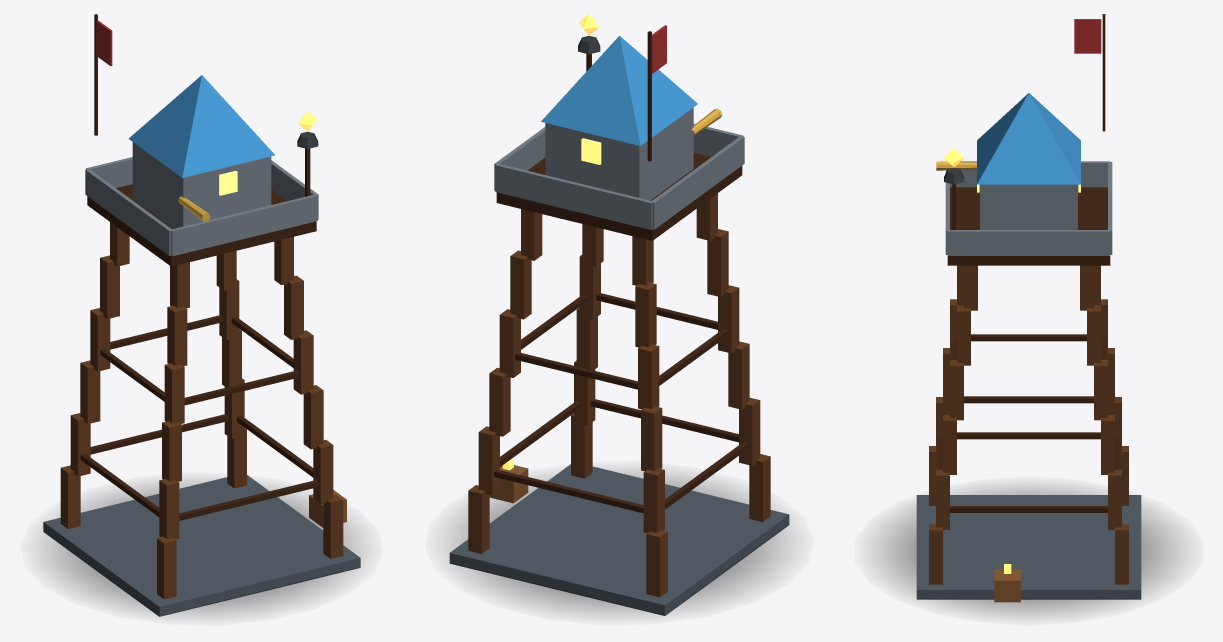
Rendered from scout_tower_t1.glb.
The picture shows the model from 3 angles, left to right: view 1: azimuth 30°, elevation 25°; view 2: azimuth 150°, elevation 25°; view 3: azimuth 270°, elevation 25°; orthographic projection. The views are drawn at different scales.
Parts seen in each view (by area): view 1: scout_tower_t1; view 2: scout_tower_t1; view 3: scout_tower_t1.
Boxes of the visible parts, bbox=[...] form: scout_tower_t1: bbox=[43, 14, 360, 616]; scout_tower_t1: bbox=[449, 14, 789, 615]; scout_tower_t1: bbox=[876, 14, 1181, 615].
Size of the model in its own units: 6.8 by 10.44 by 6.73.
